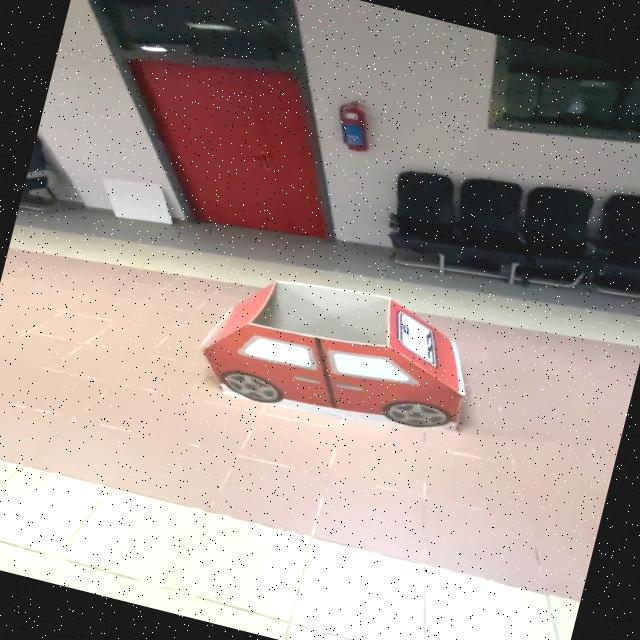red_car: (164, 236, 519, 488)
